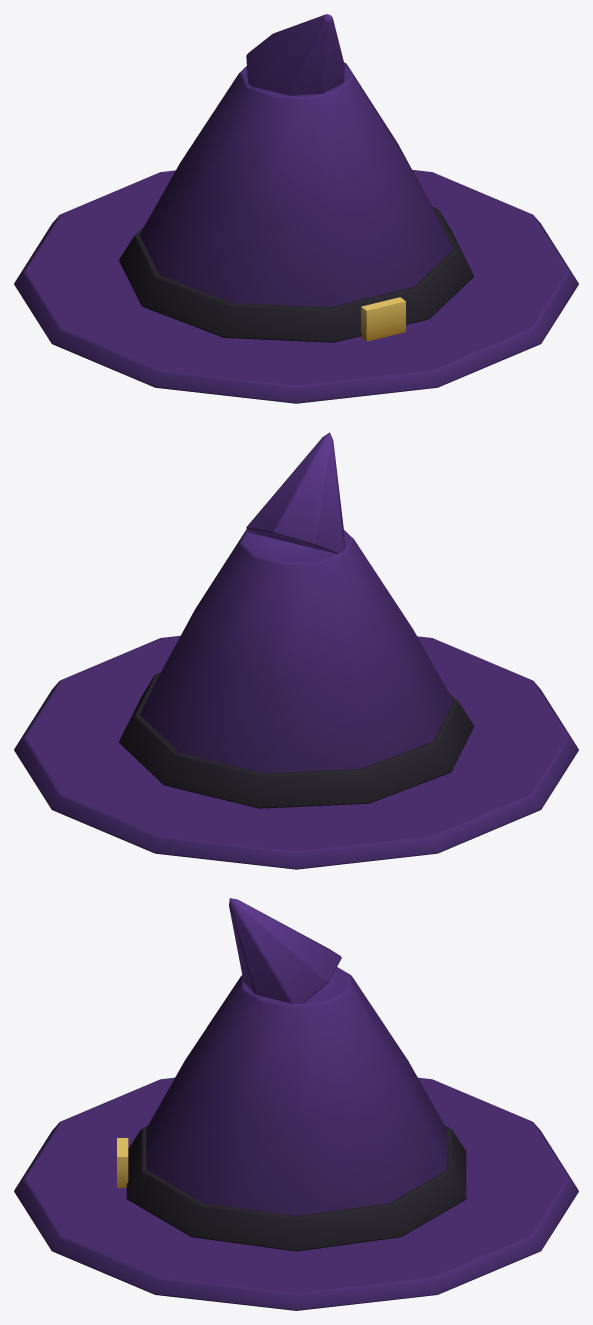
File: wizard_hat.glb
3 views of the same model, one above another, from view 1: azimuth 30°, elevation 25°; view 2: azimuth 150°, elevation 25°; view 3: azimuth 270°, elevation 25° (orthographic).
Visible parts, largest first — view 1: wizard_hat, wizard_hat_trim; view 2: wizard_hat; view 3: wizard_hat, wizard_hat_trim.
Boxes of the visible parts, x1=… form: wizard_hat: x1=14, y1=14, x2=578, y2=403; wizard_hat_trim: x1=361, y1=297, x2=405, y2=341; wizard_hat: x1=14, y1=432, x2=578, y2=869; wizard_hat: x1=14, y1=898, x2=578, y2=1310; wizard_hat_trim: x1=117, y1=1138, x2=128, y2=1187.
Size of the model in its own units: 2.99 by 1.72 by 2.99.
